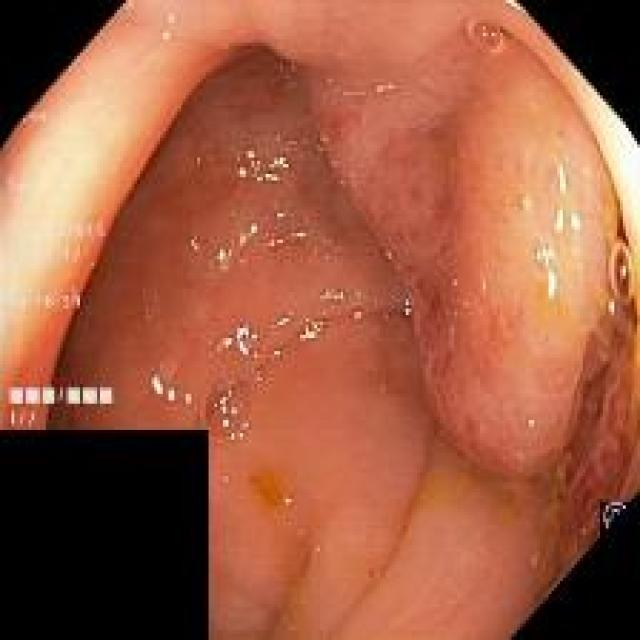Polyps: (421, 37, 632, 478)
